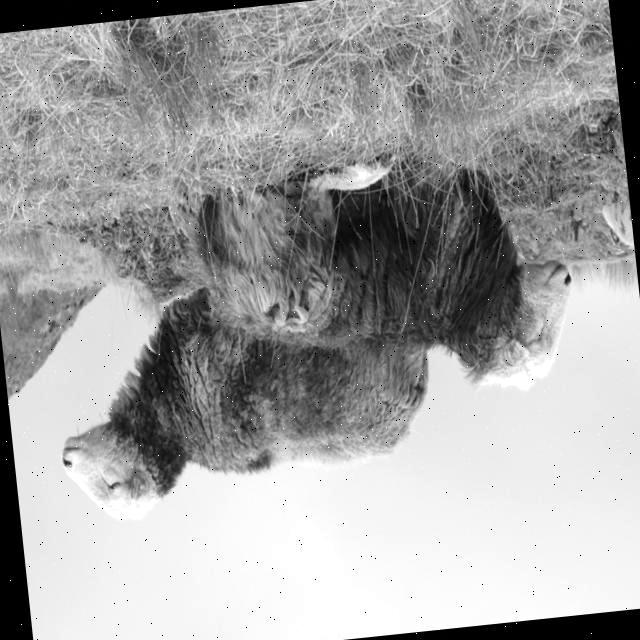sheep: (195, 156, 560, 382)
